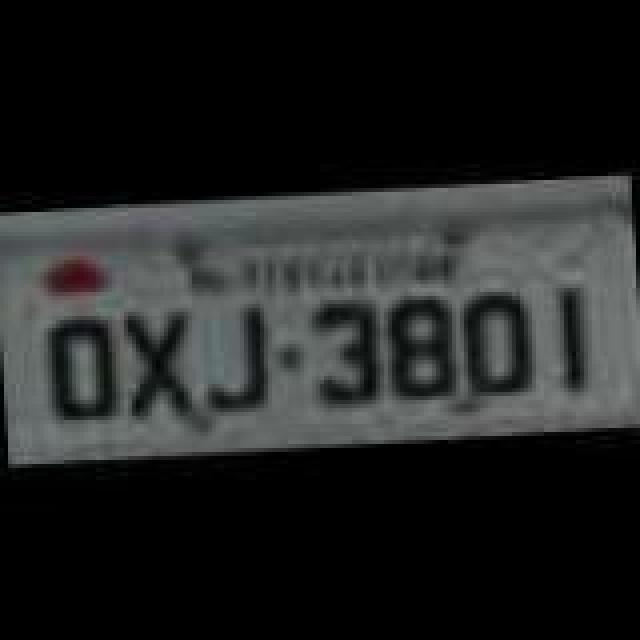1: (556, 284, 596, 396)
3: (304, 298, 384, 410)
8: (384, 290, 464, 402)
J: (194, 304, 278, 420)
O: (454, 290, 538, 402), (42, 314, 118, 430)
X: (118, 310, 202, 426)
